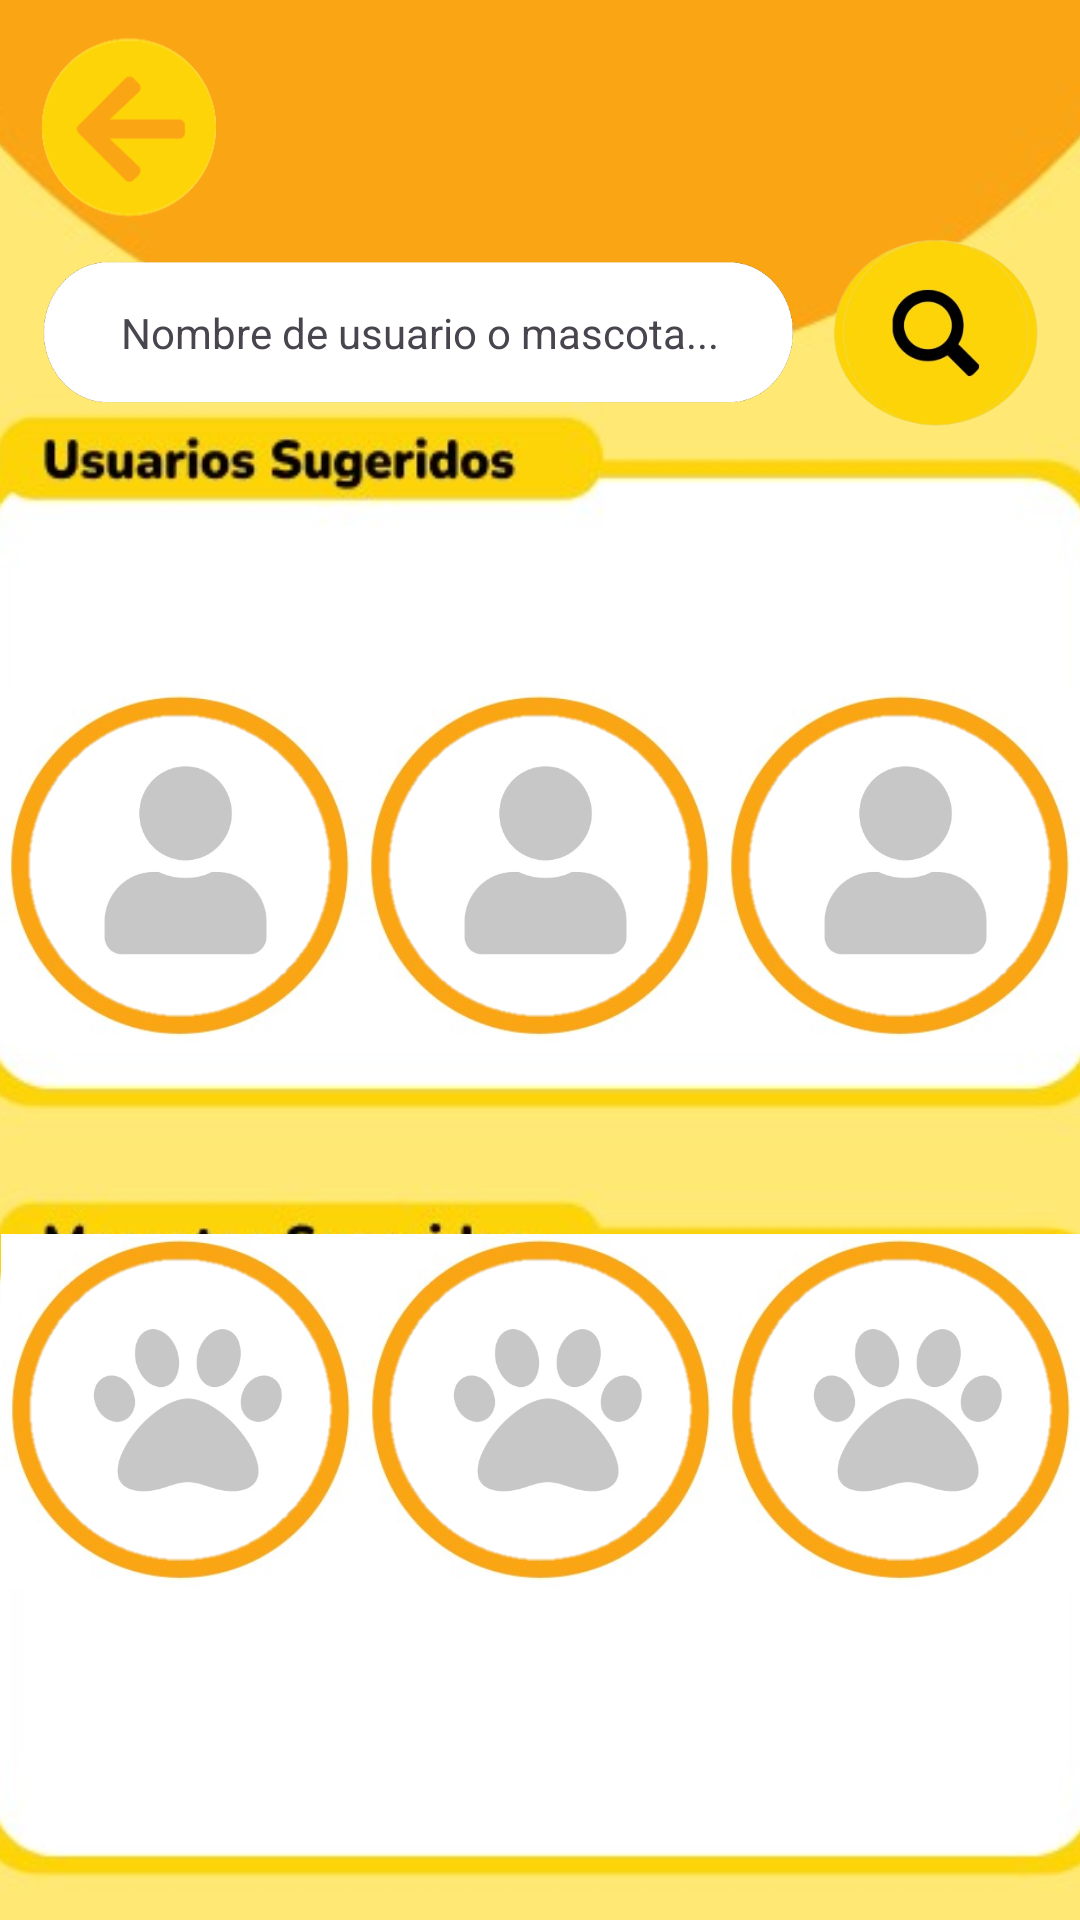

Named icons in this screenshot (1080px×1920px) and their centers, point (x, y):
btnlupa: point (933, 329)
btnvolver: point (129, 127)
